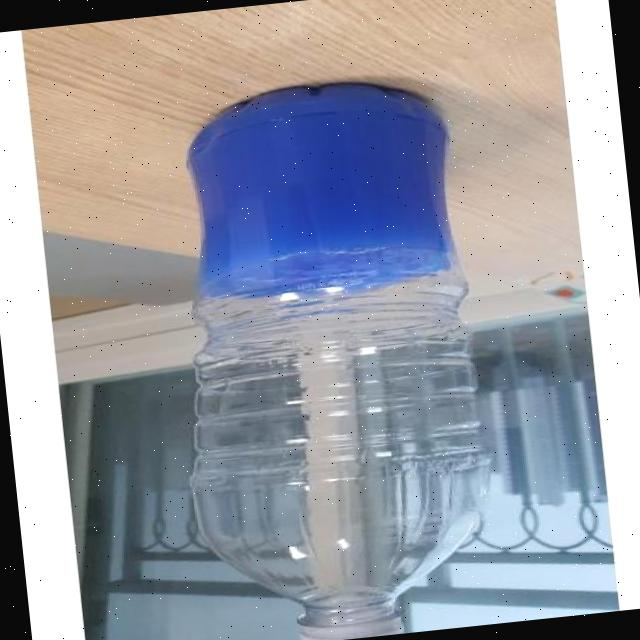bottle: (154, 45, 520, 640)
